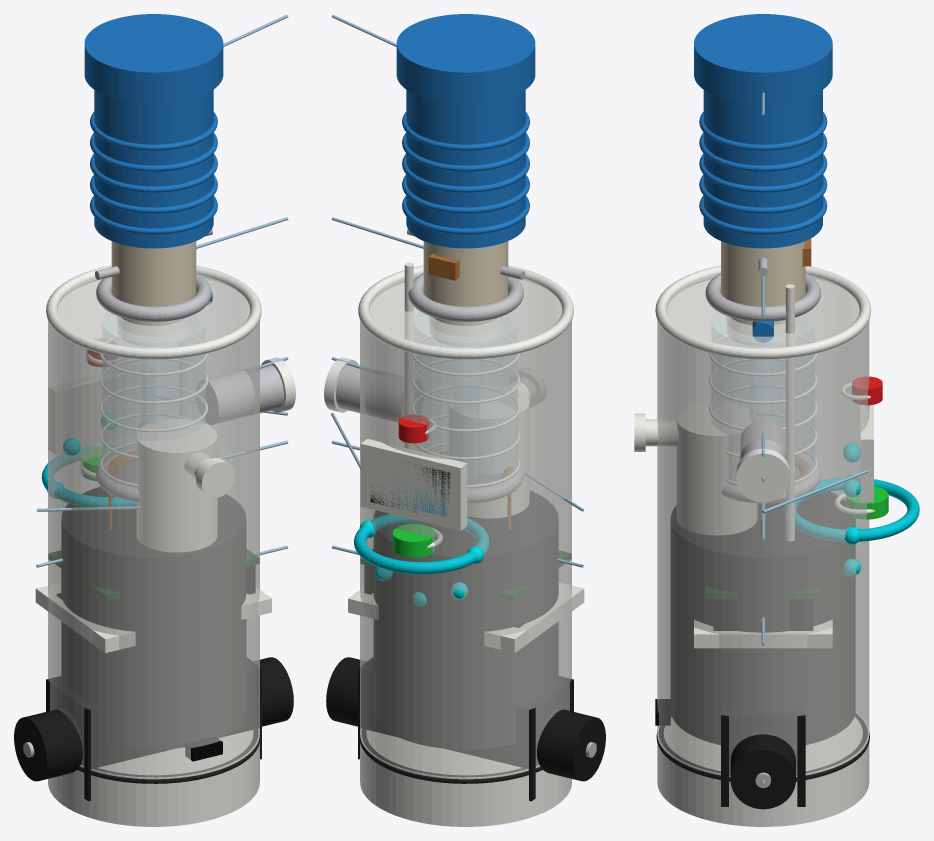
Rendered from aerostent_assembled.obj.
The picture shows the model from 3 angles, left to right: view 1: azimuth 30°, elevation 25°; view 2: azimuth 150°, elevation 25°; view 3: azimuth 270°, elevation 25°; orthographic projection.
Parts seen in each view (by area): view 1: P1_Housing_Shell, P1_Grip_Zone, P2_Mouthpiece_Outer, P1_Bottom_Cap, P2_Mouthpiece_Lip, P5_PEPValve_Body, P3_Reservoir_Body, P9_Display_Bezel, P10_VenturiManifold, P7_Battery_Tray, P1_HousingTopRim, P7_18650_Cell_-13 (+20 smaller); view 2: P1_Housing_Shell, P1_Grip_Zone, P2_Mouthpiece_Outer, P1_Bottom_Cap, P2_Mouthpiece_Lip, P9_Display_Bezel, P5_PEPValve_Body, P3_Reservoir_Body, P7_Battery_Tray, P1_HousingTopRim, P10_VenturiManifold, P7_18650_Cell_-13 (+21 smaller); view 3: P1_Housing_Shell, P1_Grip_Zone, P2_Mouthpiece_Outer, P1_Bottom_Cap, P2_Mouthpiece_Lip, P5_PEPValve_Body, P3_Reservoir_Body, P1_HousingTopRim, P10_VenturiManifold, P7_18650_Cell_13, P7_Battery_Tray, P6_PCBCarrier_Tray (+21 smaller).
Boxes of the visible parts, box(x1,y1,x2,y2) form: P1_Housing_Shell: box(48, 275, 259, 809); P1_Grip_Zone: box(61, 487, 245, 749); P2_Mouthpiece_Outer: box(94, 90, 213, 248); P1_Bottom_Cap: box(48, 728, 259, 826); P2_Mouthpiece_Lip: box(84, 14, 223, 103); P5_PEPValve_Body: box(137, 419, 217, 551); P3_Reservoir_Body: box(102, 311, 205, 463); P9_Display_Bezel: box(49, 371, 139, 453); P10_VenturiManifold: box(111, 241, 196, 306); P7_Battery_Tray: box(46, 657, 261, 801); P1_HousingTopRim: box(46, 265, 261, 359); P7_18650_Cell_-13: box(14, 708, 83, 781); P1_Housing_Shell: box(360, 275, 571, 809); P1_Grip_Zone: box(374, 490, 558, 749); P2_Mouthpiece_Outer: box(406, 90, 525, 248); P1_Bottom_Cap: box(360, 728, 571, 826); P2_Mouthpiece_Lip: box(396, 14, 535, 103); P9_Display_Bezel: box(360, 439, 467, 530); P5_PEPValve_Body: box(449, 385, 529, 518); P3_Reservoir_Body: box(414, 311, 517, 463); P7_Battery_Tray: box(358, 657, 573, 801); P1_HousingTopRim: box(358, 265, 573, 359); P10_VenturiManifold: box(423, 241, 508, 306); P7_18650_Cell_-13: box(536, 708, 605, 781); P1_Housing_Shell: box(657, 275, 869, 808); P1_Grip_Zone: box(671, 492, 855, 744); P2_Mouthpiece_Outer: box(703, 90, 822, 248); P1_Bottom_Cap: box(657, 712, 869, 826); P2_Mouthpiece_Lip: box(694, 14, 832, 103); P5_PEPValve_Body: box(677, 402, 757, 535); P3_Reservoir_Body: box(711, 311, 814, 463); P1_HousingTopRim: box(655, 265, 871, 359); P10_VenturiManifold: box(721, 241, 805, 306); P7_18650_Cell_13: box(730, 732, 795, 809); P7_Battery_Tray: box(721, 709, 805, 806); P6_PCBCarrier_Tray: box(694, 619, 832, 648).
Size of what is drawn, in the model's own units: 0.0783 by 0.2115 by 0.0741.
